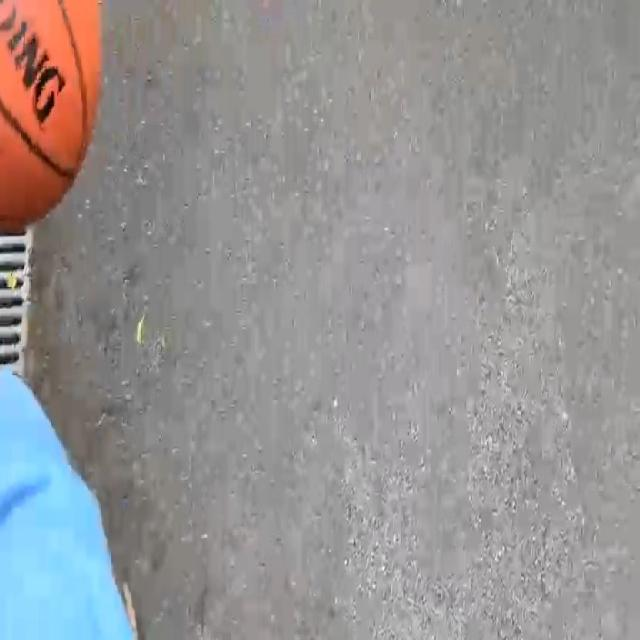Basketball: (0, 0, 100, 228)
